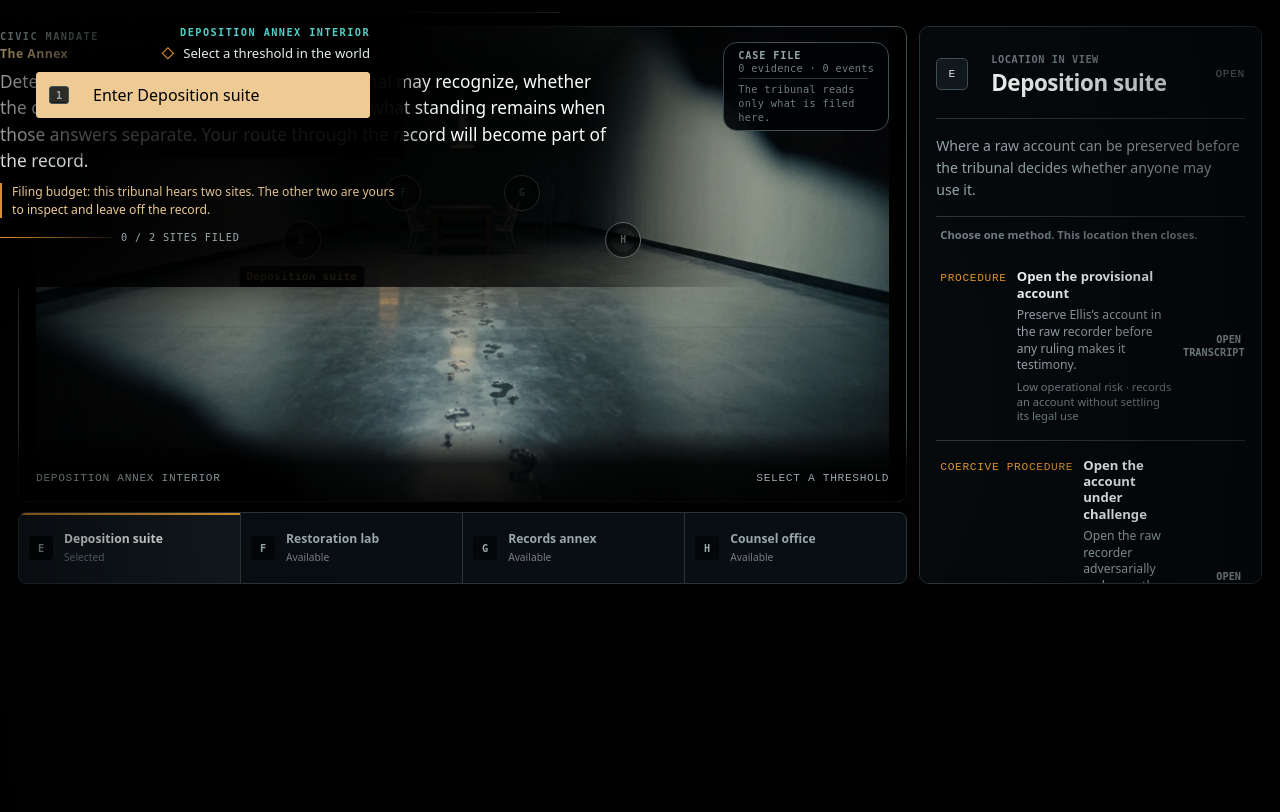
it: Case 81 spatial deposition route › does not expose a Fourth Margin marker before the authored site is filed
Click the button with class "annex-world-portal" showing "F". click: {"x": 403, "y": 193}
box: [379,169,427,217]
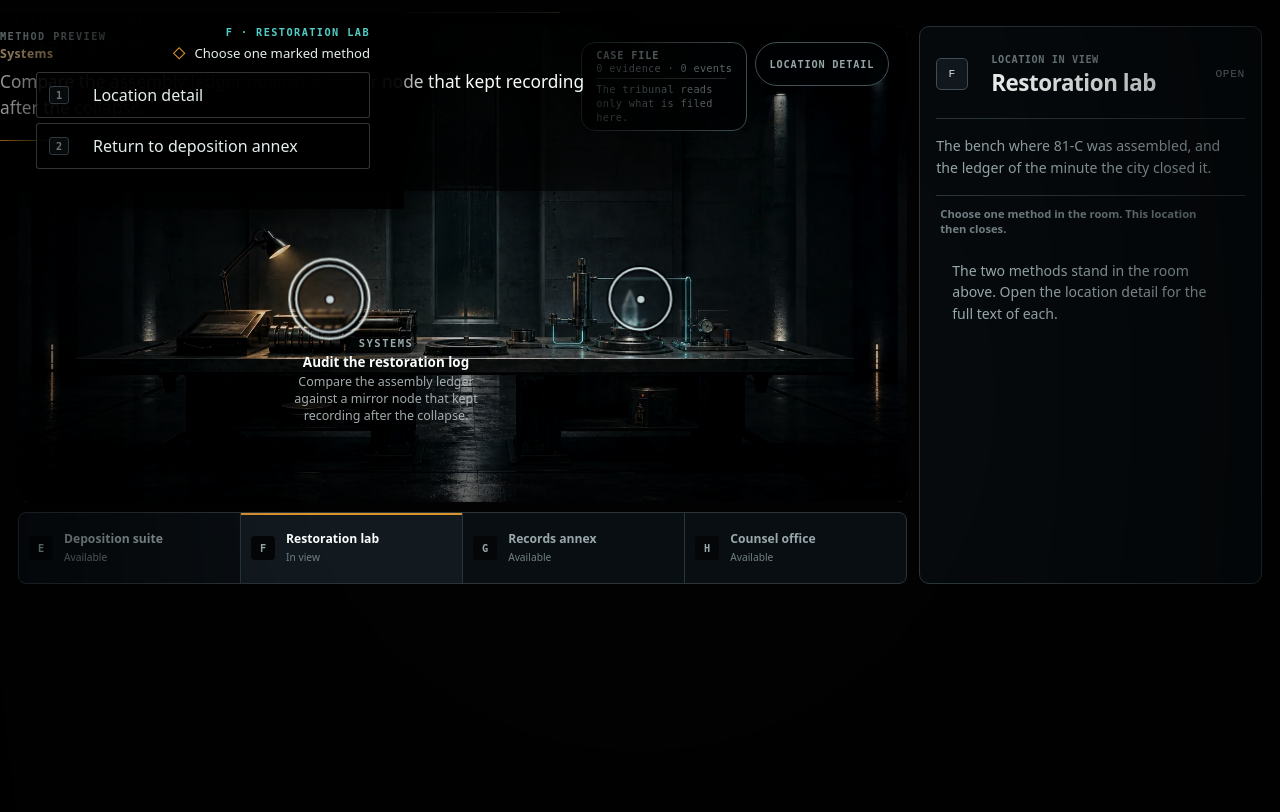
Expected: the element with class "site-closeup-stage" is shown, [18,26,907,502]
